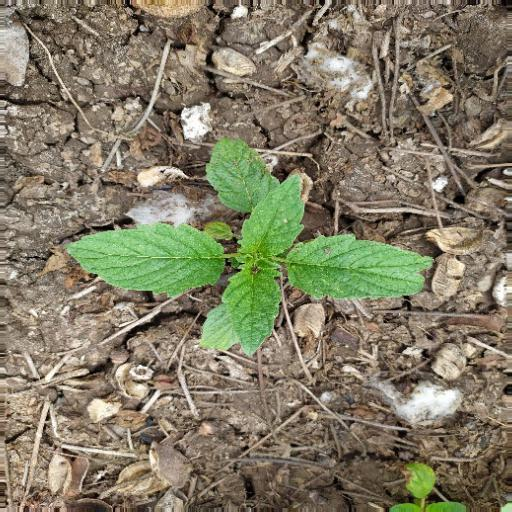crop: (73, 134, 450, 367)
